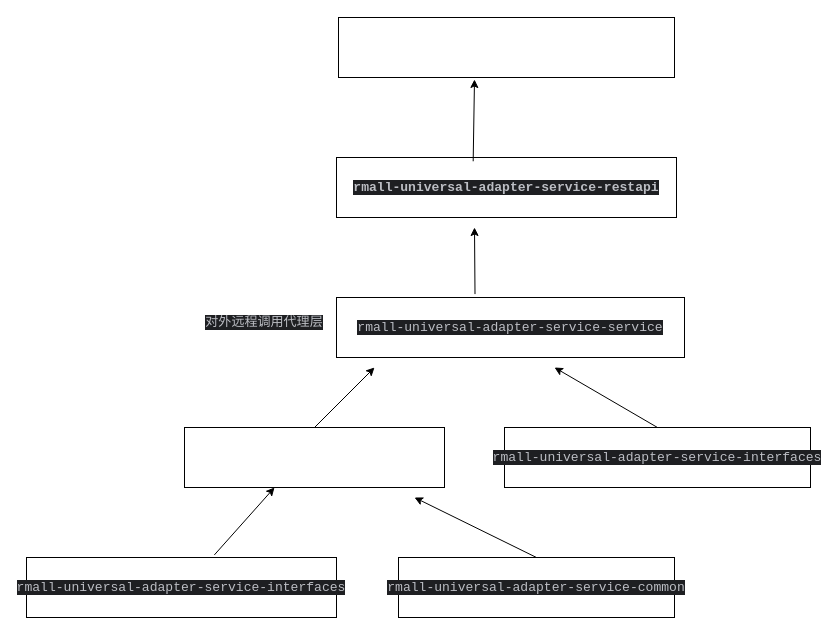
The diagram is 839 pixels wide and 635 high, and some of its shapes have lost their labels. Each missing label, with the centre of its shape:
"rmall-universal-adapter-service-domain" belongs at point 314,457.
"rmall-universal-adapter-service-starter" belongs at point 506,47.
